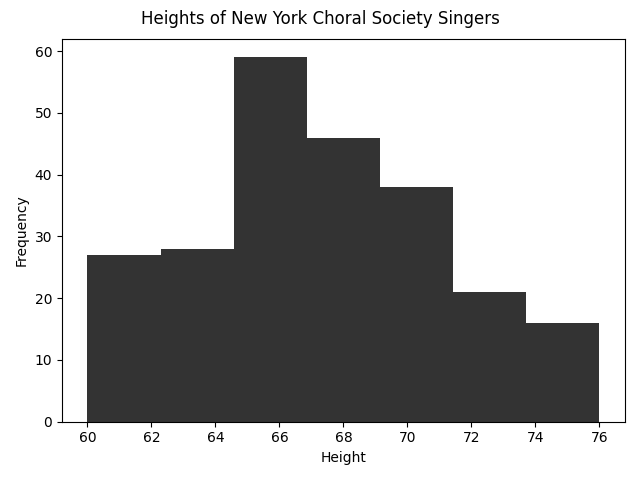canvas: (75, 49, 609, 423)
title: (137, 8, 507, 31)
x-axis: (63, 421, 640, 431)
x-labels: (73, 429, 616, 445)
x-title: (316, 448, 371, 467)
y-axis: (57, 29, 66, 429)
y-labels: (33, 37, 56, 431)
y-title: (11, 188, 31, 276)
